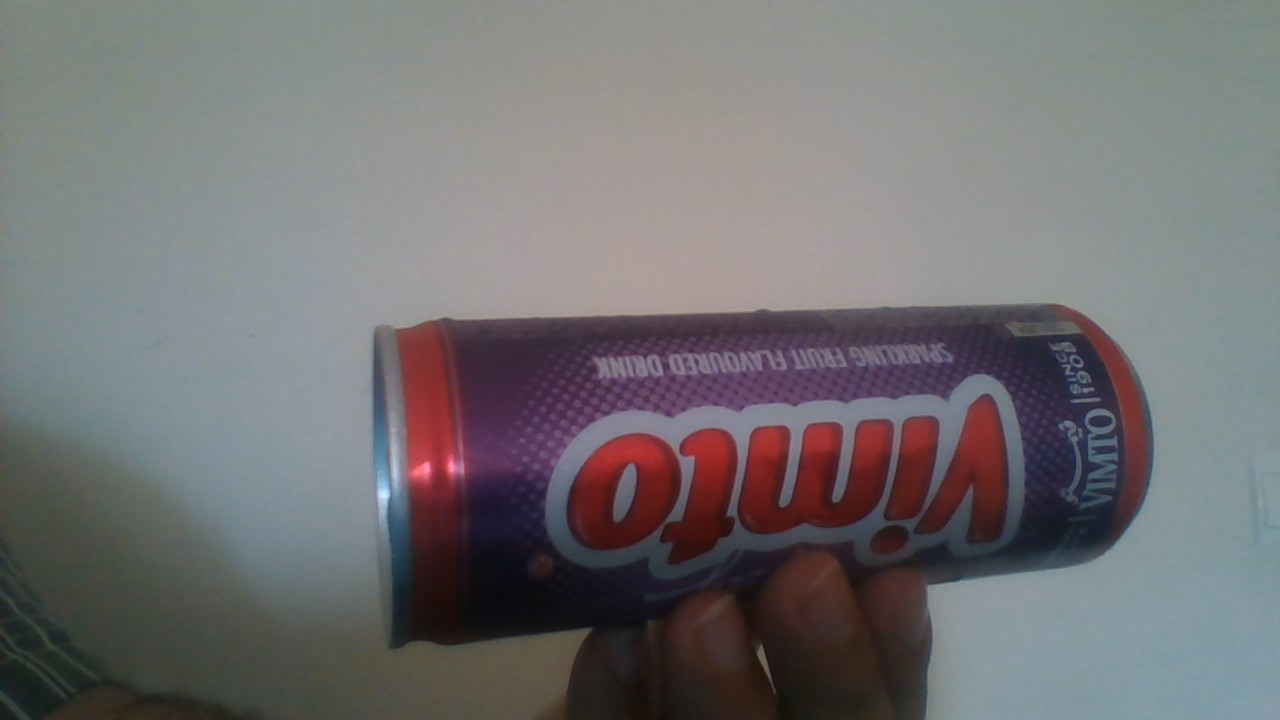can: (355, 295, 1176, 656)
